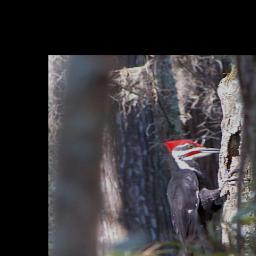Woodpecker: (161, 139, 251, 256)
